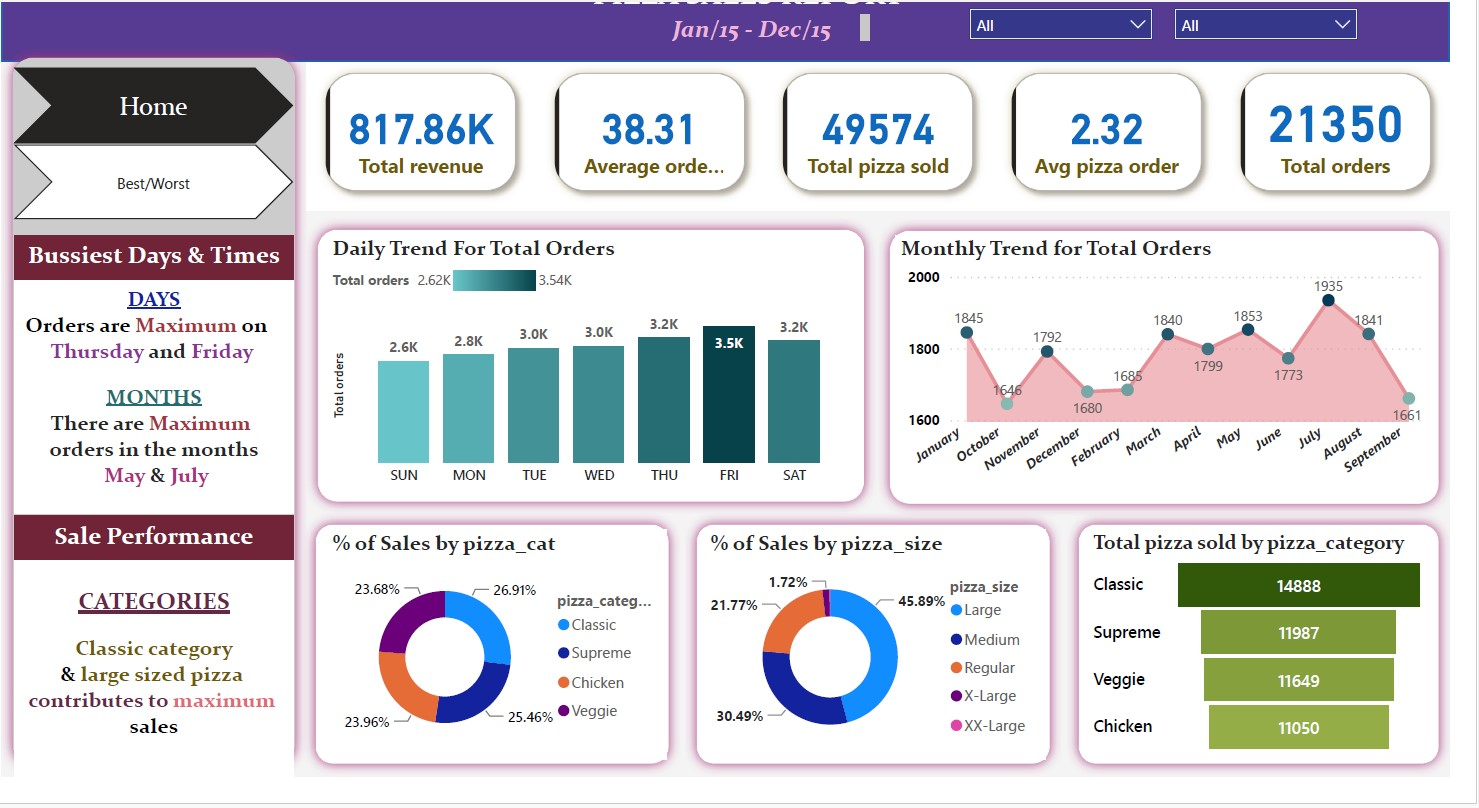

Layout of this report page (visuals, bound fields, positions):
{"tool":"powerbi","page":{"name":"Home","canvas":[1280,720],"ordinal":0},"visuals":[{"type":"cardVisual","fields":{"Data":["pizza_sales pizza6.Total revenue","pizza_sales pizza6.Average order value","pizza_sales pizza6.Total pizza sold","pizza_sales pizza6.Avg pizza order","pizza_sales pizza6.Total orders"]},"box":[270,81.7,1010,138.3],"z":0},{"type":"shape","box":[0,7.6,1280,81.2],"z":1000},{"type":"textbox","box":[501.7,8.3,316.7,50],"z":2000},{"type":"textbox","box":[588.3,41.7,183.3,33.3],"z":3000},{"type":"shape","box":[270,226.7,503.3,261.7],"z":4000},{"type":"columnChart","title":"Daily Trend For Total Orders","fields":{"Category":["pizza_sales pizza6.Order days"],"Y":["pizza_sales pizza6.Total orders"]},"box":[288.3,241.7,463.3,231.7],"z":5000},{"type":"shape","box":[775,228.3,505,261.7],"z":6000},{"type":"areaChart","title":"Monthly Trend for Total Orders","fields":{"Category":["pizza_sales pizza6.Month Name"],"Y":["pizza_sales pizza6.Total orders"]},"box":[790,241.7,473.3,231.7],"z":7000},{"type":"shape","box":[268.3,488.3,331.7,231.7],"z":8000},{"type":"shape","box":[941.7,488.3,338.3,231.7],"z":9000},{"type":"shape","box":[605,488.3,331.7,231.7],"z":10000},{"type":"donutChart","title":"% of Sales by pizza_cat","fields":{"Category":["pizza_sales pizza6.pizza_category"],"Y":["pizza_sales pizza6.Total revenue"]},"box":[288.3,501.7,300,203.3],"z":11000},{"type":"donutChart","title":"% of Sales by pizza_size","fields":{"Category":["pizza_sales pizza6.pizza_size"],"Y":["pizza_sales pizza6.Total revenue"]},"box":[621.7,501.7,301.7,203.3],"z":12000},{"type":"funnel","fields":{"Category":["pizza_sales pizza6.pizza_category"],"Y":["pizza_sales pizza6.Total pizza sold"]},"box":[960,501.7,303.3,203.3],"z":13000},{"type":"shape","box":[0,75,270,645],"z":14000},{"type":"textbox","box":[11.7,241.7,246.7,40],"z":15000},{"type":"textbox","box":[11.7,281.7,246.7,206.7],"z":16000},{"type":"textbox","box":[11.7,490,246.7,40],"z":17000},{"type":"textbox","box":[11.7,530,246.7,190],"z":18000},{"type":"slicer","fields":{"Values":["pizza_sales pizza6.pizza_category"]},"box":[845.8,11.3,181.2,77.4],"z":19000},{"type":"slicer","fields":{"Values":["pizza_sales pizza6.order_date"]},"box":[1027,11.3,181.2,77.4],"z":20000},{"type":"pageNavigator","box":[11.3,94.4,247.3,68],"z":20001},{"type":"pageNavigator","box":[11.3,162.4,247.3,66.1],"z":20002}]}

Visuals, with their boxes in screenshot pixels (x1, y1, x2, y2), scaled from the page's 1280x720 canvas onto the 1479x808 screenshot:
cardVisual - pizza_sales pizza6.Total revenue x pizza_sales pizza6.Average order value: x1=312 y1=92 x2=1478 y2=247
shape: x1=0 y1=9 x2=1478 y2=100
textbox: x1=580 y1=9 x2=946 y2=65
textbox: x1=680 y1=47 x2=892 y2=84
shape: x1=312 y1=254 x2=894 y2=548
"Daily Trend For Total Orders" columnChart: x1=333 y1=271 x2=868 y2=531
shape: x1=895 y1=256 x2=1478 y2=550
"Monthly Trend for Total Orders" areaChart: x1=913 y1=271 x2=1460 y2=531
shape: x1=310 y1=548 x2=693 y2=807
shape: x1=1088 y1=548 x2=1478 y2=807
shape: x1=699 y1=548 x2=1082 y2=807
"% of Sales by pizza_cat" donutChart: x1=333 y1=563 x2=680 y2=791
"% of Sales by pizza_size" donutChart: x1=718 y1=563 x2=1067 y2=791
funnel - pizza_sales pizza6.pizza_category x pizza_sales pizza6.Total pizza sold: x1=1109 y1=563 x2=1460 y2=791
shape: x1=0 y1=84 x2=312 y2=807
textbox: x1=14 y1=271 x2=299 y2=316
textbox: x1=14 y1=316 x2=299 y2=548
textbox: x1=14 y1=550 x2=299 y2=595
textbox: x1=14 y1=595 x2=299 y2=807
slicer - pizza_sales pizza6.pizza_category: x1=977 y1=13 x2=1187 y2=100
slicer - pizza_sales pizza6.order_date: x1=1187 y1=13 x2=1396 y2=100
pageNavigator: x1=13 y1=106 x2=299 y2=182
pageNavigator: x1=13 y1=182 x2=299 y2=256
